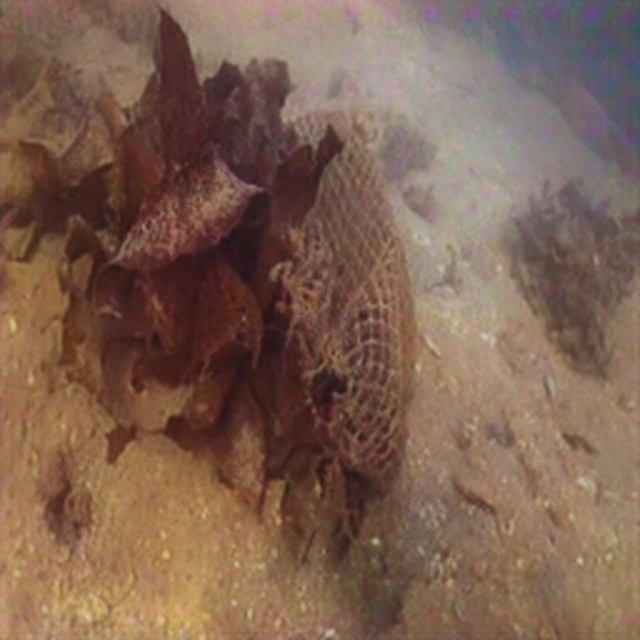mine: (288, 107, 419, 476)
